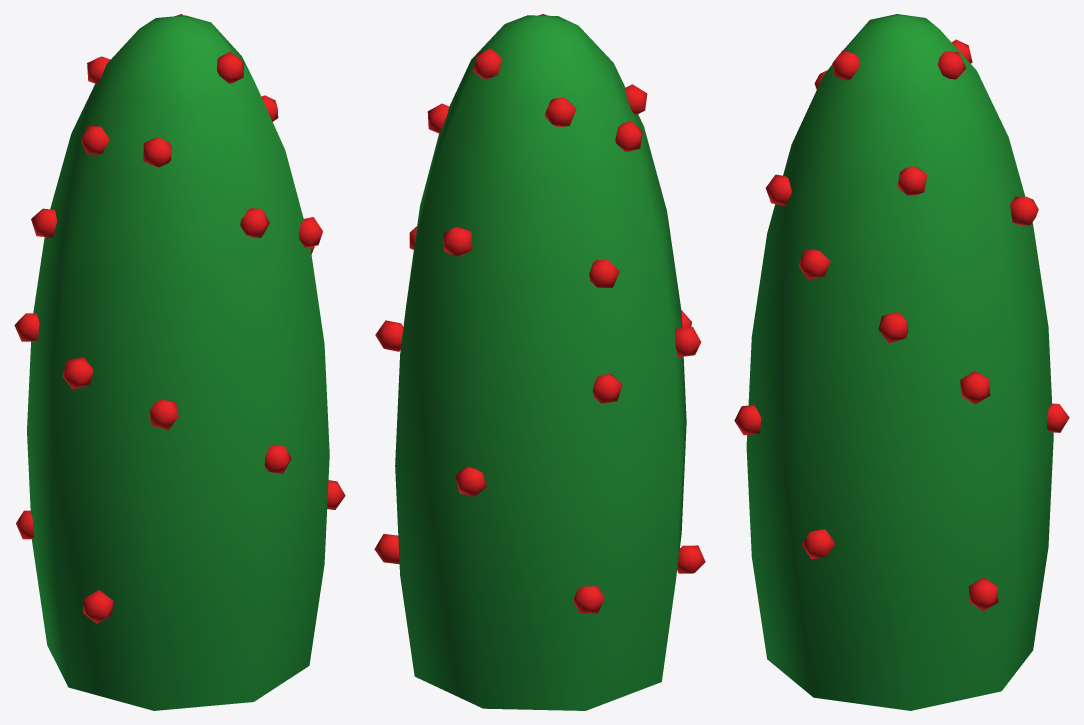
File: Bush_2_B_2.fbx
3 renders of one model, left to right at view 1: azimuth 30°, elevation 25°; view 2: azimuth 150°, elevation 25°; view 3: azimuth 270°, elevation 25°, orthographic.
Visible parts, largest first — view 1: Bush_2_B_2; view 2: Bush_2_B_2; view 3: Bush_2_B_2.
Boxes of the visible parts, x1,y1,x2,y2 form: Bush_2_B_2: (14,14,345,710); Bush_2_B_2: (374,14,705,710); Bush_2_B_2: (734,14,1069,710).
Bounding box in the file's own units: 70.58 × 159 × 75.75.
